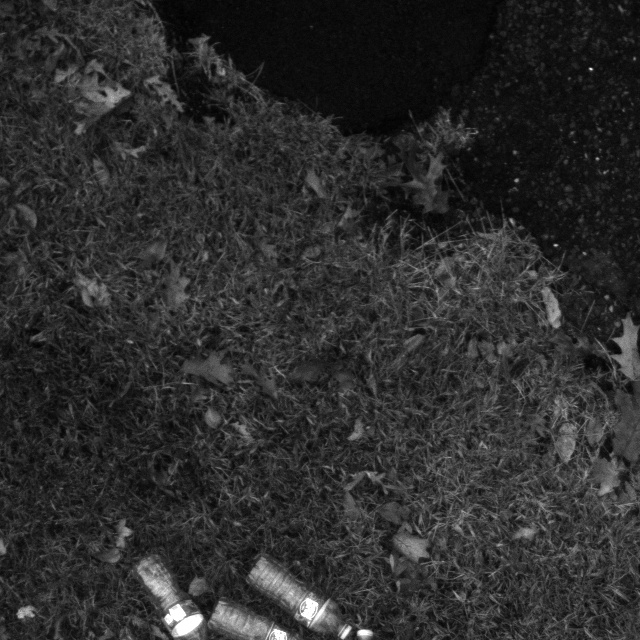bottle: (250, 556, 360, 640), (134, 559, 212, 640)
